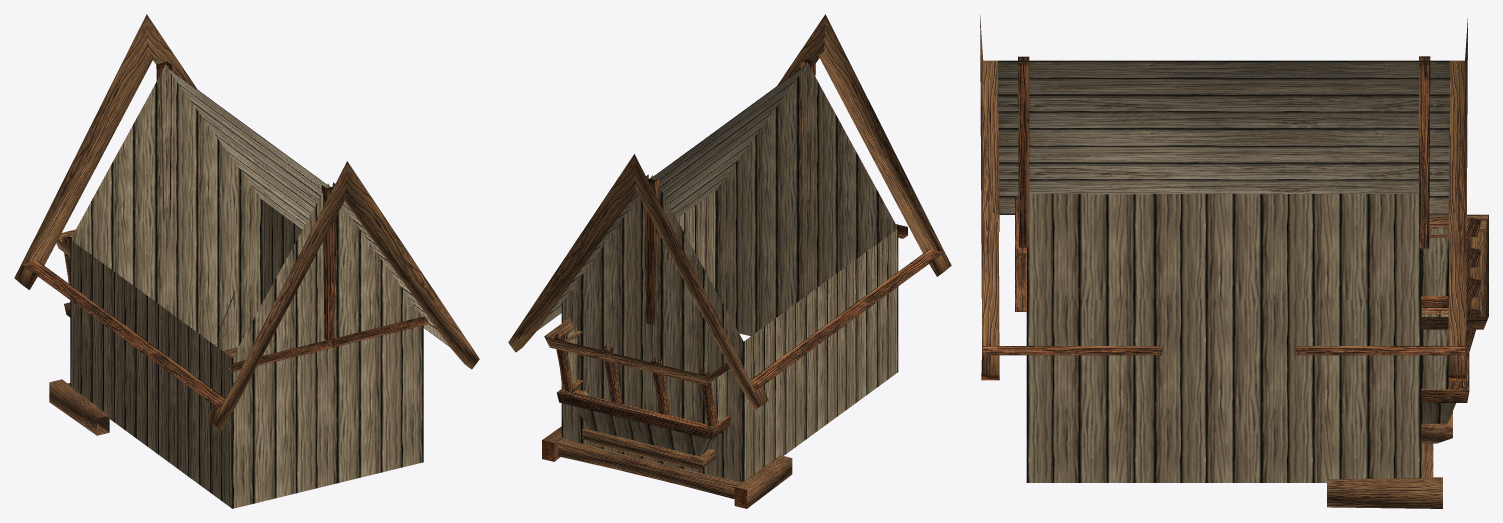
The model's file is LAKETOWN_EXTERIOR_PS_LT_TOPHOUSE7464__GX.fbx.
The picture shows the model from 3 angles, left to right: view 1: azimuth 30°, elevation 25°; view 2: azimuth 150°, elevation 25°; view 3: azimuth 270°, elevation 25°; orthographic projection. The views are drawn at different scales.
Parts seen in each view (by area): view 1: LAKETOWN_EXTERIOR_PS_LT_TOPHOUSE7464__GX; view 2: LAKETOWN_EXTERIOR_PS_LT_TOPHOUSE7464__GX; view 3: LAKETOWN_EXTERIOR_PS_LT_TOPHOUSE7464__GX.
Part boxes in pixels (x1,y1,x2,y2): LAKETOWN_EXTERIOR_PS_LT_TOPHOUSE7464__GX: (14,14,479,508); LAKETOWN_EXTERIOR_PS_LT_TOPHOUSE7464__GX: (508,14,951,508); LAKETOWN_EXTERIOR_PS_LT_TOPHOUSE7464__GX: (980,15,1488,508).
Size of the model in its own units: 62738 by 79776 by 85318.
6 materials, 6 textured.
